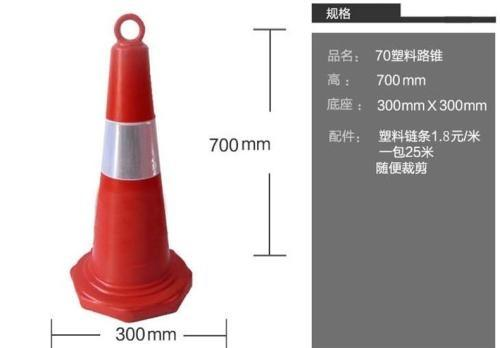cone_barrel: (67, 16, 189, 319)
